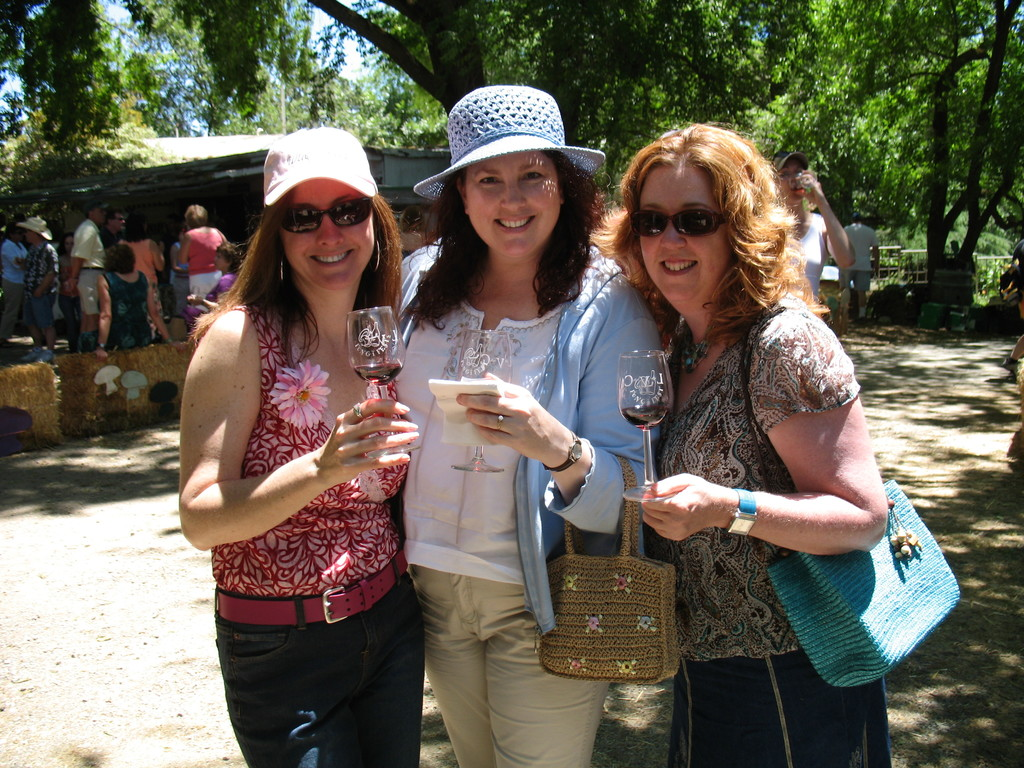Tree: (0, 0, 764, 268), (763, 0, 1023, 288)
